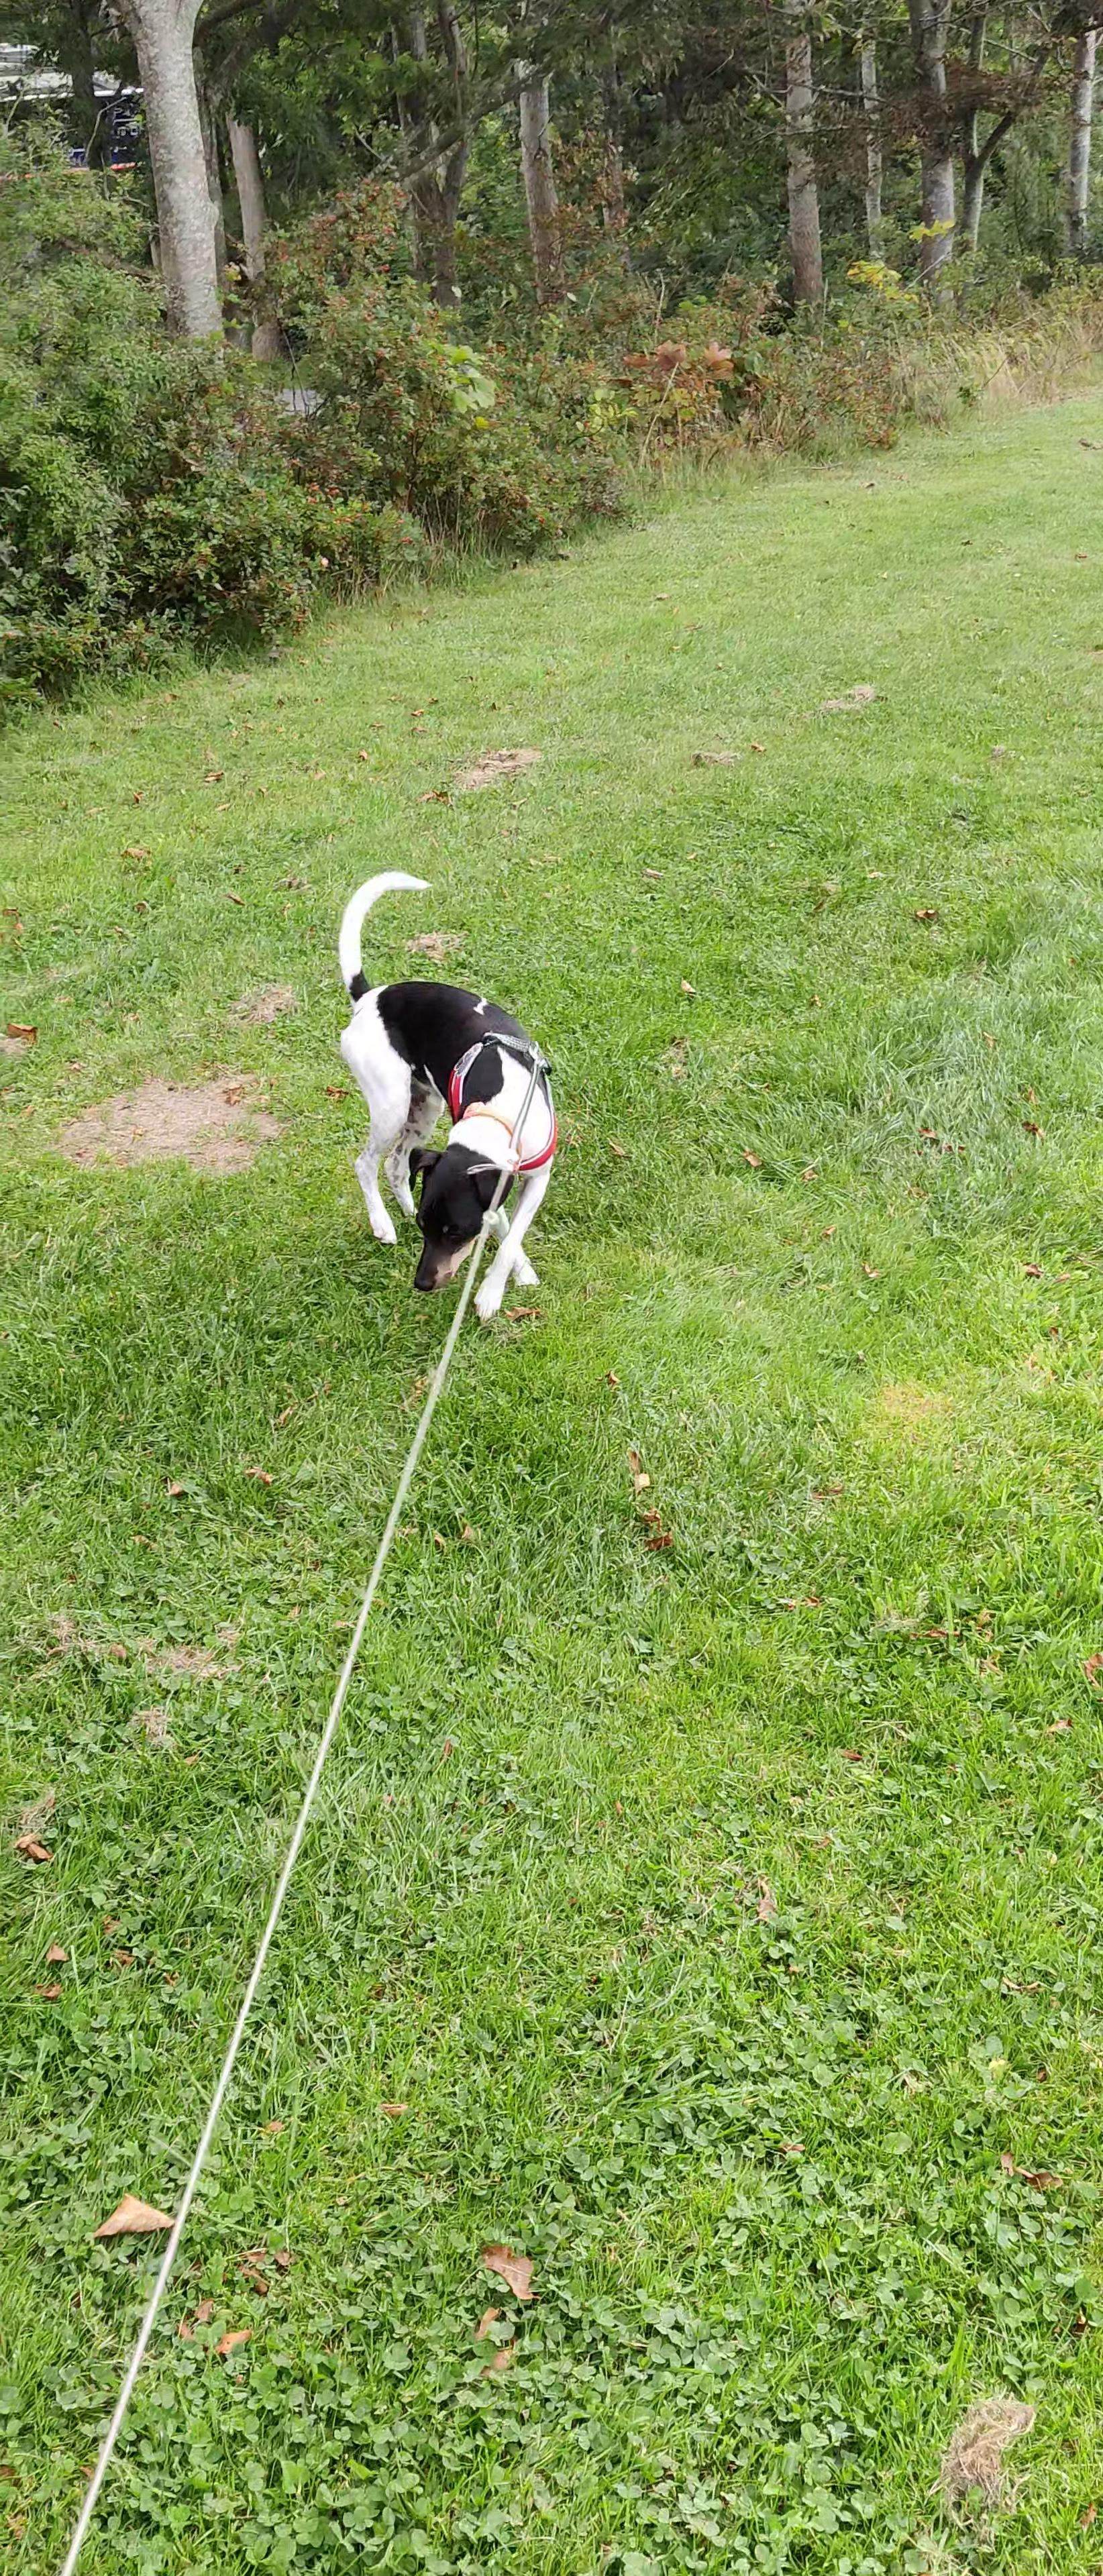Dog: (330, 866, 564, 1332)
